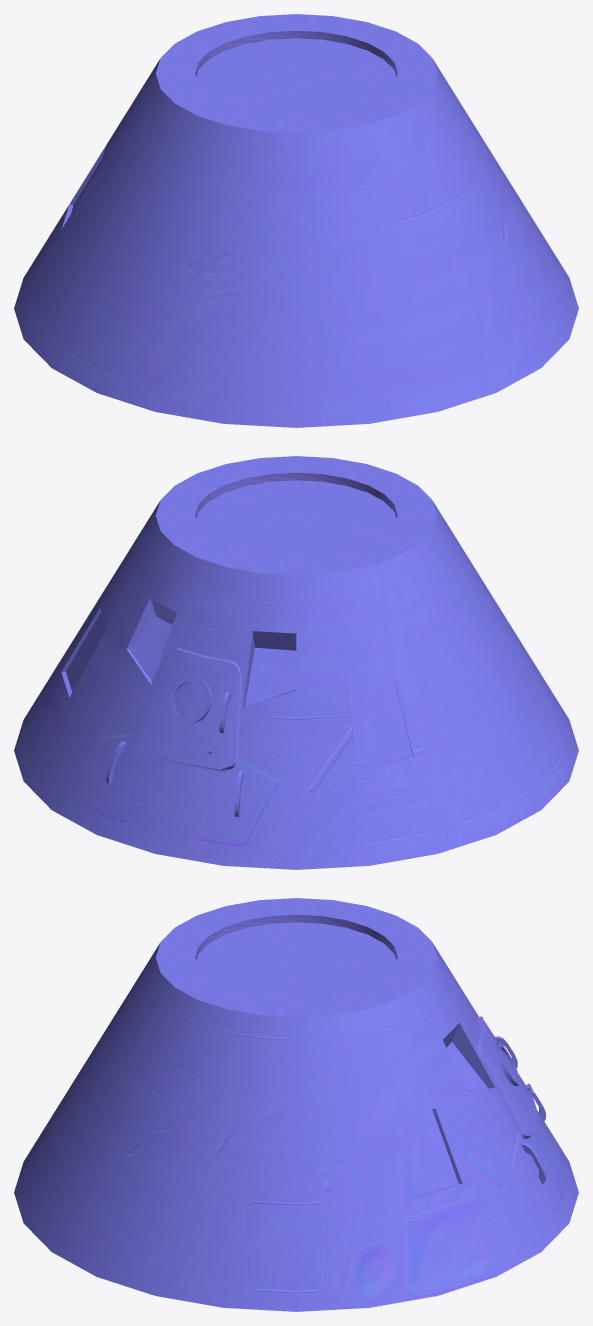
The model's file is Apollo_Capsule.fbx.
3 renders of one model, top to bottom at view 1: azimuth 30°, elevation 25°; view 2: azimuth 150°, elevation 25°; view 3: azimuth 270°, elevation 25°, orthographic.
Parts seen in each view (by area): view 1: Apollo_Capsule4; view 2: Apollo_Capsule4, polySurface38; view 3: Apollo_Capsule4, polySurface38.
Boxes of the visible parts, <box> form: Apollo_Capsule4: <box>14,14,578,427</box>; Apollo_Capsule4: <box>14,456,578,869</box>; polySurface38: <box>66,612,412,765</box>; Apollo_Capsule4: <box>14,898,578,1311</box>; polySurface38: <box>394,1042,517,1197</box>.
Size of the model in its own units: 0.025 by 0.0115 by 0.025.
